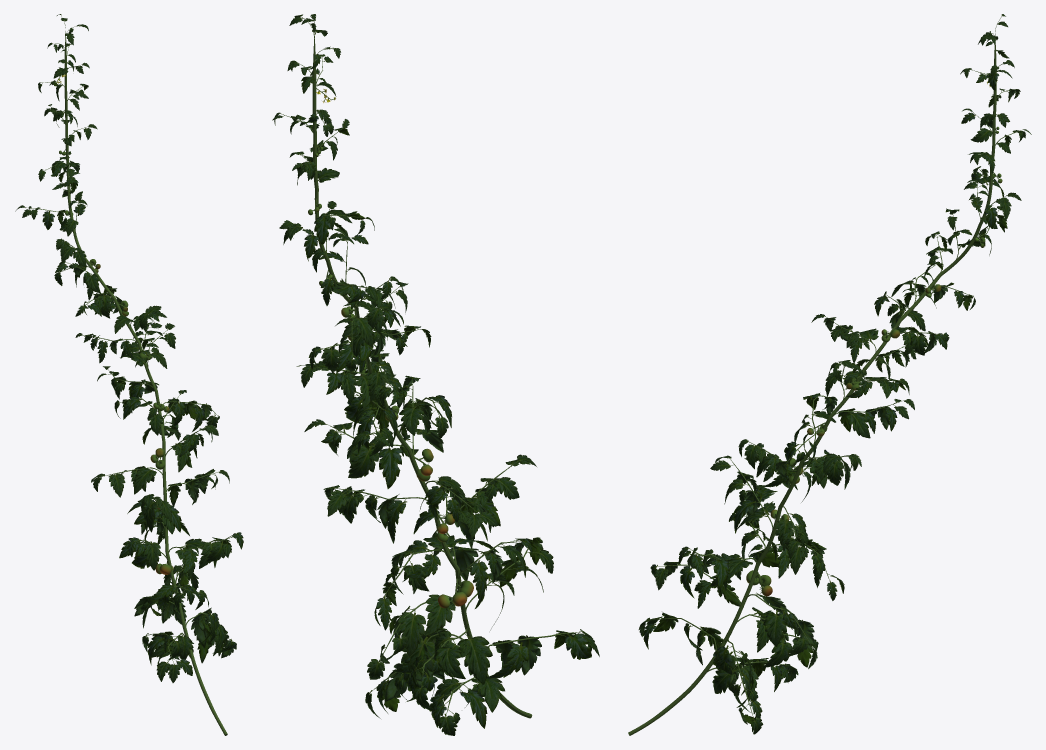
The model's file is tomato_014.glb.
3 renders of one model, left to right at view 1: azimuth 30°, elevation 25°; view 2: azimuth 150°, elevation 25°; view 3: azimuth 270°, elevation 25°, orthographic. The views are drawn at different scales.
Parts seen in each view (by area): view 1: tomato_014; view 2: tomato_014; view 3: tomato_014.
Part boxes in pixels (x1,y1,x2,y2): tomato_014: [15, 14, 243, 735]; tomato_014: [272, 14, 599, 735]; tomato_014: [628, 14, 1031, 735].
Bounding box in the file's own units: 0.703 × 3.12 × 1.59.
Materials: 16 (15 with a texture image).
